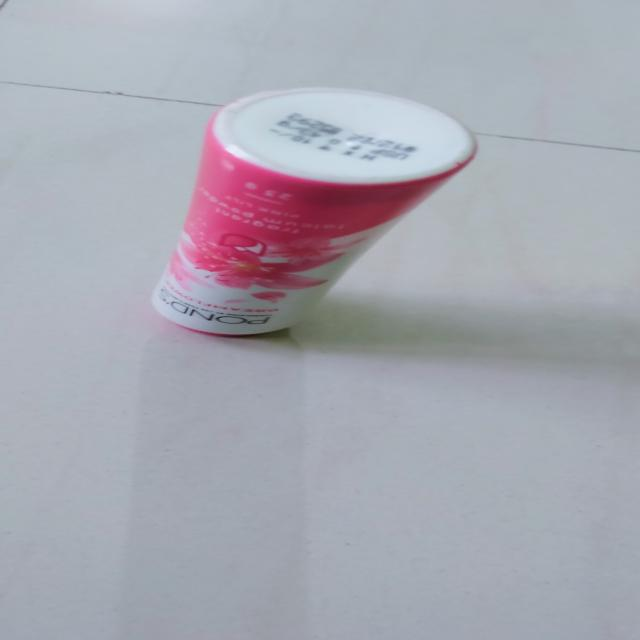powder: (147, 83, 492, 340)
